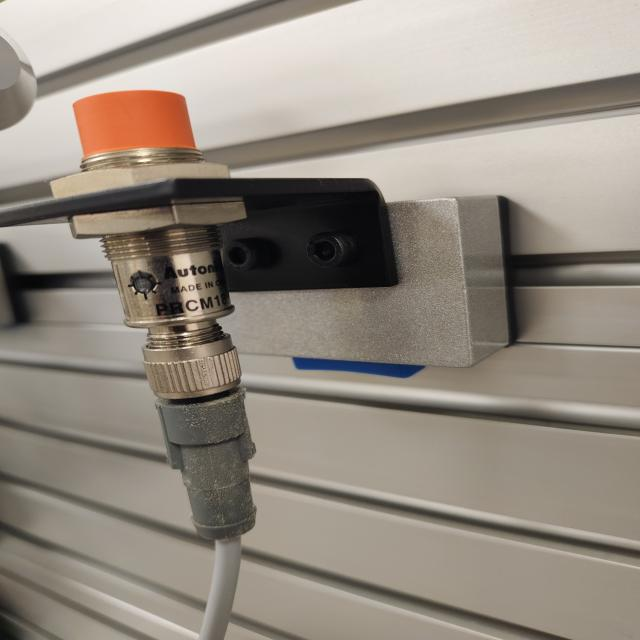inductive sensor: (31, 85, 521, 559)
